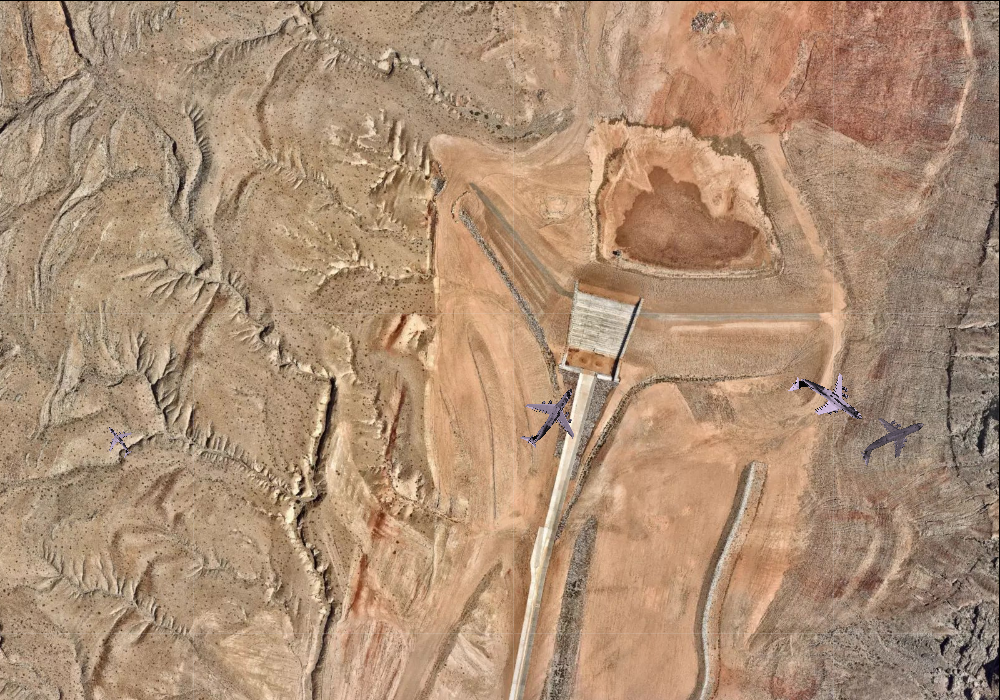plane: (776, 350, 878, 449), (502, 369, 597, 465), (848, 400, 936, 482), (95, 418, 141, 464)
